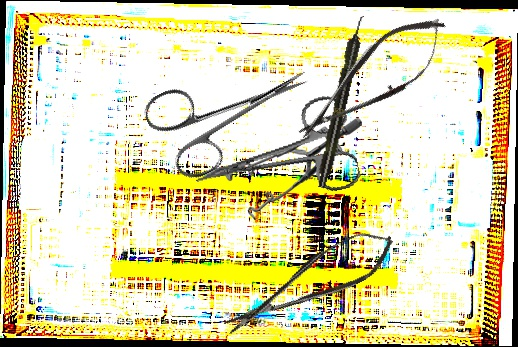Handpiece: (314, 13, 369, 190)
Iris Scissors: (139, 32, 326, 188), (184, 92, 363, 221)
Micro Scissor: (283, 1, 462, 158), (214, 221, 403, 344)
Speculum: (221, 112, 362, 224)
